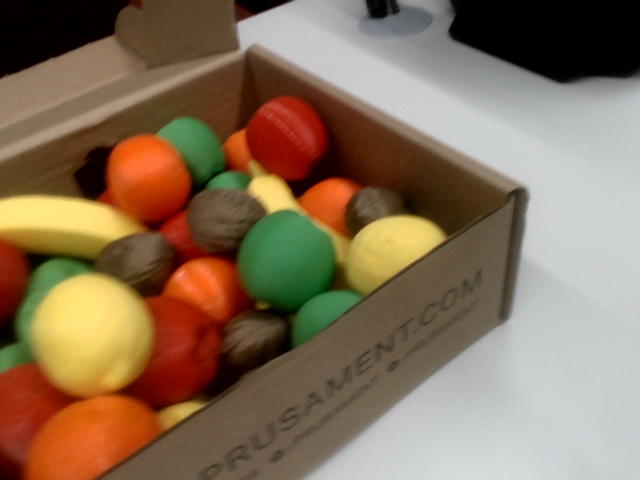banana: (232, 155, 358, 272), (0, 189, 149, 265)
green apple: (217, 194, 354, 332), (0, 239, 95, 348), (154, 104, 235, 190), (276, 273, 363, 350), (0, 339, 34, 373), (204, 170, 250, 189)
lemon: (9, 252, 175, 417), (327, 191, 448, 299), (154, 388, 207, 430)
orange: (92, 121, 202, 235), (159, 236, 266, 338), (293, 161, 373, 237), (220, 128, 255, 175)
red apple: (116, 291, 233, 421), (231, 81, 342, 192), (0, 363, 75, 479), (156, 209, 207, 269), (0, 240, 29, 327), (95, 188, 116, 211)
walnut: (171, 168, 269, 267), (92, 212, 185, 303), (208, 295, 300, 380), (334, 175, 408, 236)
